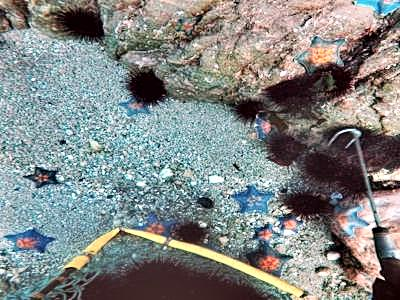urchin: (127, 254, 187, 295), (184, 267, 260, 297), (55, 5, 106, 43), (282, 187, 336, 220), (125, 66, 167, 106), (265, 77, 312, 112), (314, 61, 353, 103), (83, 267, 135, 296), (337, 162, 368, 203), (304, 149, 337, 185), (266, 131, 305, 160), (230, 94, 265, 120), (174, 217, 205, 245)
